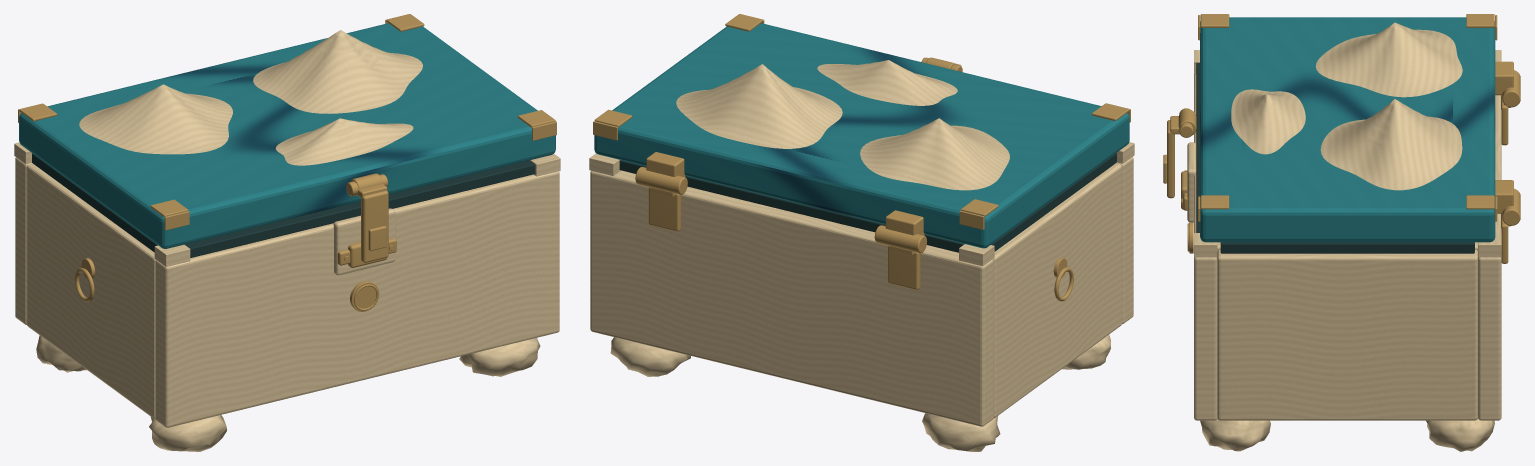
Rendered from mozambique.glb.
The picture shows the model from 3 angles, left to right: view 1: azimuth 30°, elevation 25°; view 2: azimuth 150°, elevation 25°; view 3: azimuth 270°, elevation 25°; orthographic projection.
Parts seen in each view (by area): view 1: Sand / front rear, Lid / polished slab, Sand / side, Dune / island 2, Dune / island 1, Tidal seam / long, Dune / island 3, Granite foot, Granite foot.002, Sand / front rear.001, Latch / lifting hasp, Sand / clasp seat (+4 smaller); view 2: Sand / front rear.001, Lid / polished slab, Sand / side, Dune / island 2, Dune / island 1, Dune / island 3, Tidal seam / long.001, Granite foot.001, Sand / front rear, Granite foot.003, Tidal seam / side, Hinge / fixed mount.001 (+8 smaller); view 3: Lid / polished slab, Sand / side.001, Dune / island 2, Dune / island 1, Sand / front rear.001, Sand / front rear, Dune / island 3, Tidal seam / side.001, Granite foot.002, Granite foot.003, Sand / clasp seat, Tidal seam / long (+11 smaller).
Part boxes in pixels (x1,y1,x2,y2): Sand / front rear: (155,171,559,427); Lid / polished slab: (19,23,555,248); Sand / side: (26,164,155,419); Dune / island 2: (253,30,422,113); Dune / island 1: (79,84,232,154); Tidal seam / long: (184,160,535,257); Dune / island 3: (275,118,413,165); Granite foot: (149,415,226,451); Granite foot.002: (459,338,540,376); Sand / front rear.001: (15,157,32,324); Latch / lifting hasp: (361,190,388,262); Sand / clasp seat: (333,208,395,275); Sand / front rear.001: (590,170,993,426); Lid / polished slab: (594,23,1129,248); Sand / side: (993,163,1121,418); Dune / island 2: (676,64,842,148); Dune / island 1: (860,118,1009,190); Dune / island 3: (817,60,957,105); Tidal seam / long.001: (619,160,964,252); Granite foot.001: (922,413,1000,451); Sand / front rear: (1116,157,1133,324); Granite foot.003: (610,337,690,376); Tidal seam / side: (991,153,1116,251); Hinge / fixed mount.001: (648,187,681,231); Lid / polished slab: (1200,17,1495,242); Sand / side.001: (1217,249,1477,420); Dune / island 2: (1320,99,1462,190); Dune / island 1: (1315,22,1462,97); Sand / front rear.001: (1478,95,1501,420); Sand / front rear: (1194,74,1217,420); Dune / island 3: (1231,89,1305,154); Tidal seam / side.001: (1220,242,1474,253); Granite foot.002: (1200,418,1270,451); Granite foot.003: (1426,419,1494,451); Sand / clasp seat: (1187,142,1196,222); Tidal seam / long: (1196,63,1199,232).
Size of the model in its own units: 3.79 by 2.75 by 2.88.
Materials: 4 (2 with a texture image).
